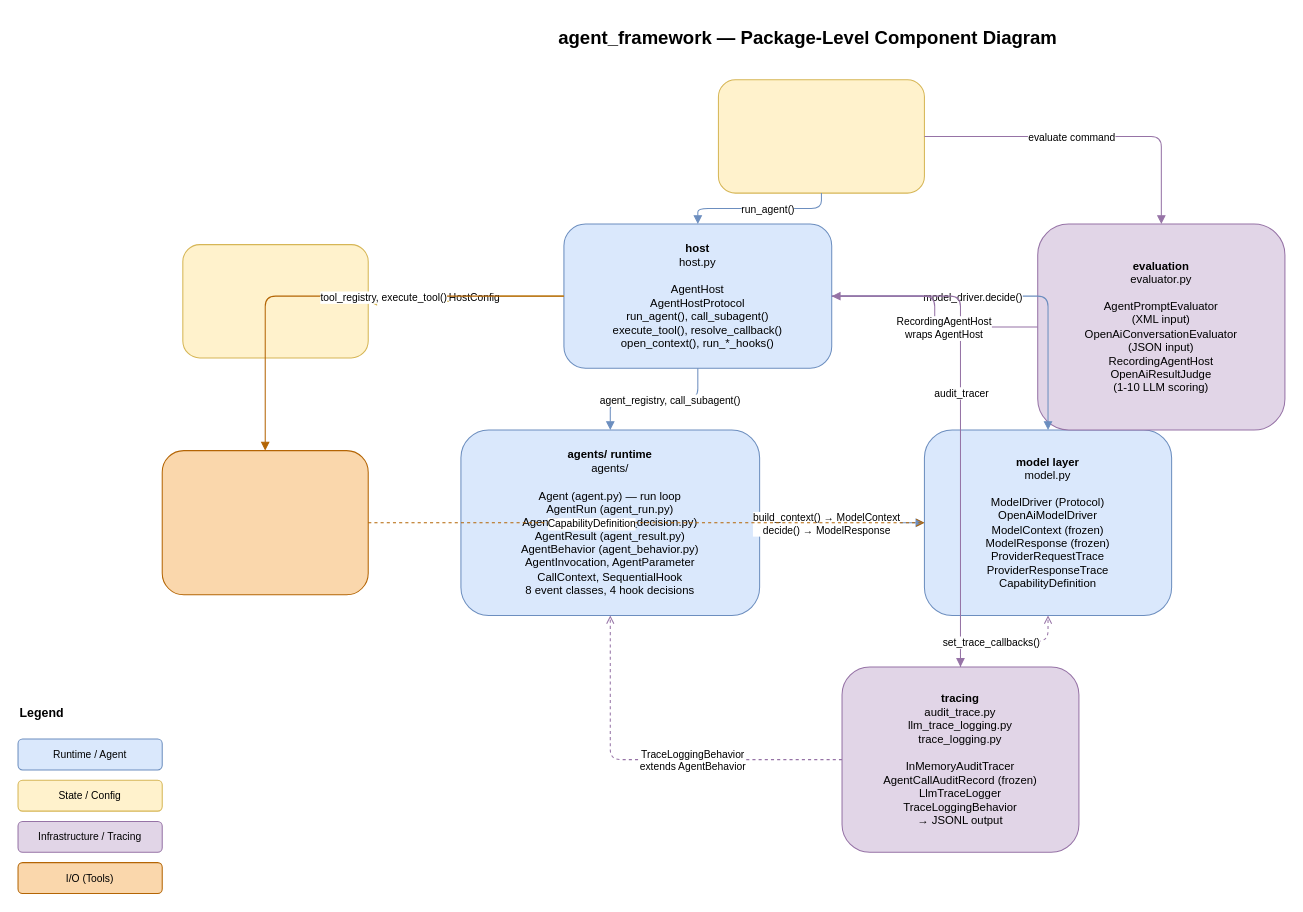
The diagram is 1303 pixels wide and 912 high, and some of its shapes have lost their labels. The shapes that lost their labels are listed below. From the top down, each one's centre as x and y in pixels, then its label:
At (820,136): "CLI __main__.py Entry point Arg parsing run / evaluate commands".
At (275,301): "config config.py HostConfig load_host_config() (reads .env)".
At (264,522): "tool system tool.py Tool ToolDefinition MarkdownTool invoke() from_name()".
